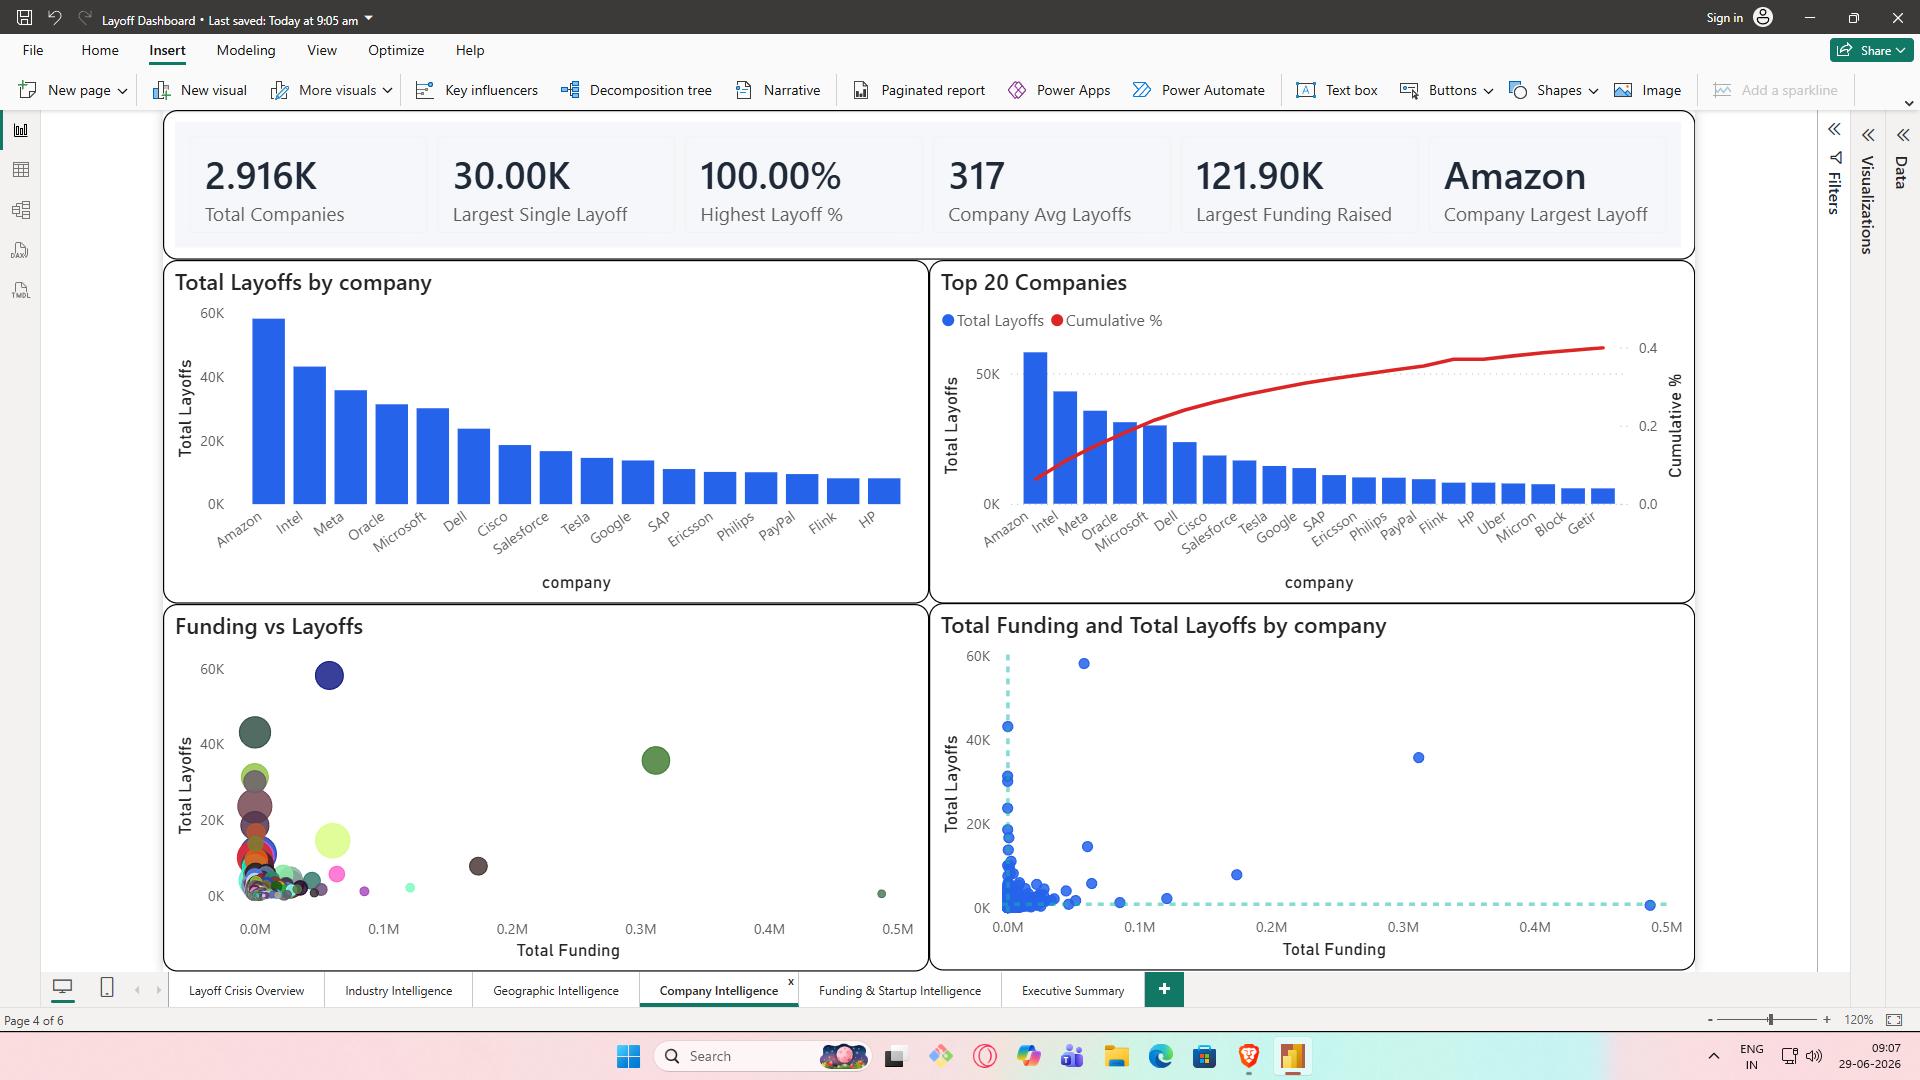

Layout of this report page (visuals, bound fields, positions):
{"tool":"powerbi","page":{"name":"Company Intelligence","canvas":[1280,720],"ordinal":3},"visuals":[{"type":"cardVisual","fields":{"Data":["Count(layoffs.company)","layoffs.Largest Single Layoff","layoffs.Highest Layoff %","layoffs.Avg Layoffs per Company","layoffs.Largest Funding Raised","layoffs.Company Largest Layoff"]},"box":[0,0,1280,125.5],"z":0},{"type":"clusteredColumnChart","fields":{"Category":["layoffs.company"],"Y":["layoffs.Total Layoffs"]},"box":[0,125.5,640,286.9],"z":1000},{"type":"scatterChart","title":"Funding vs Layoffs","fields":{"X":["layoffs.Total Funding"],"Y":["layoffs.Total Layoffs"],"Category":["layoffs.company"],"Series":["layoffs.company"],"Size":["layoffs.Avg Layoffs"]},"box":[0,412.4,640,307.4],"z":2000},{"type":"lineClusteredColumnComboChart","title":"Top 20 Companies","fields":{"Category":["layoffs.company"],"Y":["layoffs.Total Layoffs"],"Y2":["layoffs.Cumulative %"]},"box":[640,125.5,640,286.9],"z":3000},{"type":"scatterChart","fields":{"X":["layoffs.Total Funding"],"Y":["layoffs.Total Layoffs"],"Category":["layoffs.company"]},"box":[640,412,640,307],"z":4000}]}

Visuals, with their boxes on the page's 1280x720 design canvas (x1, y1, x2, y2). These are canvas units, not pixel positions in the 1920x1080 screenshot, which may show the page scaled, cropped or inside an application window:
cardVisual - Count(layoffs.company) x layoffs.Largest Single Layoff: region(0, 0, 1280, 126)
clusteredColumnChart - layoffs.company x layoffs.Total Layoffs: region(0, 126, 640, 412)
"Funding vs Layoffs" scatterChart: region(0, 412, 640, 720)
"Top 20 Companies" lineClusteredColumnComboChart: region(640, 126, 1280, 412)
scatterChart - layoffs.Total Funding x layoffs.Total Layoffs: region(640, 412, 1280, 719)
